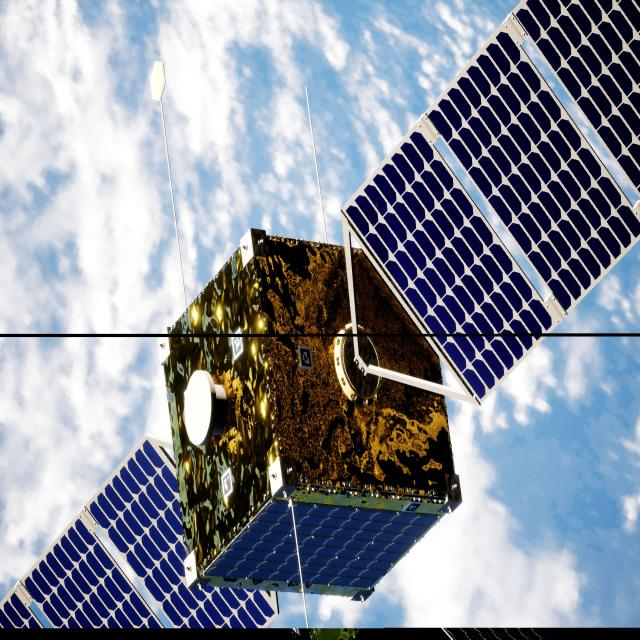medium_debris: (0, 0, 640, 631)
